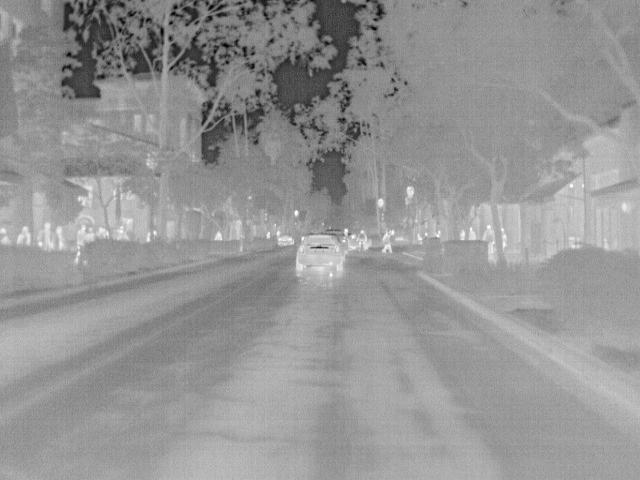car: (292, 233, 344, 275), (276, 228, 296, 247)
person: (37, 220, 57, 252), (482, 221, 496, 257), (75, 222, 89, 248), (15, 223, 33, 243), (54, 225, 67, 250), (355, 228, 370, 248), (464, 223, 478, 242), (381, 234, 394, 254)
